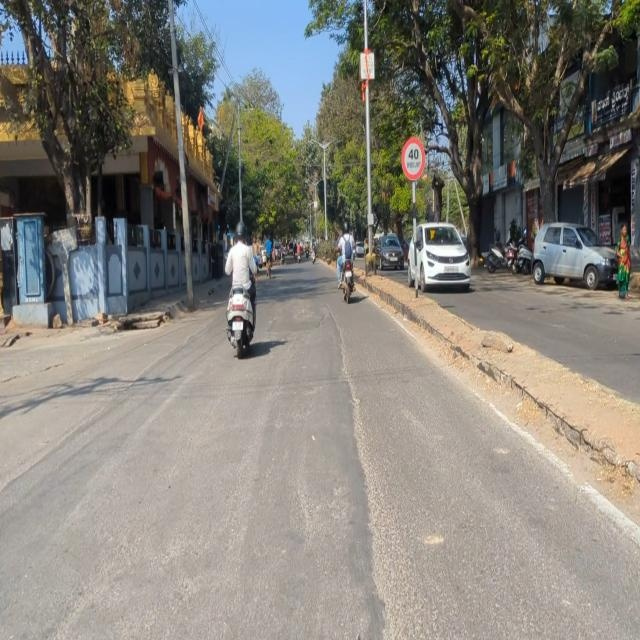bien_cam: (399, 135, 425, 179)
